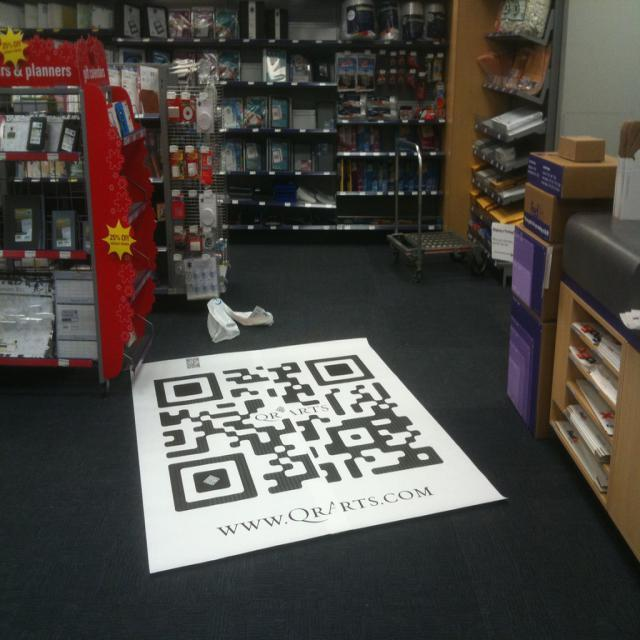qrcode: (154, 355, 445, 513)
